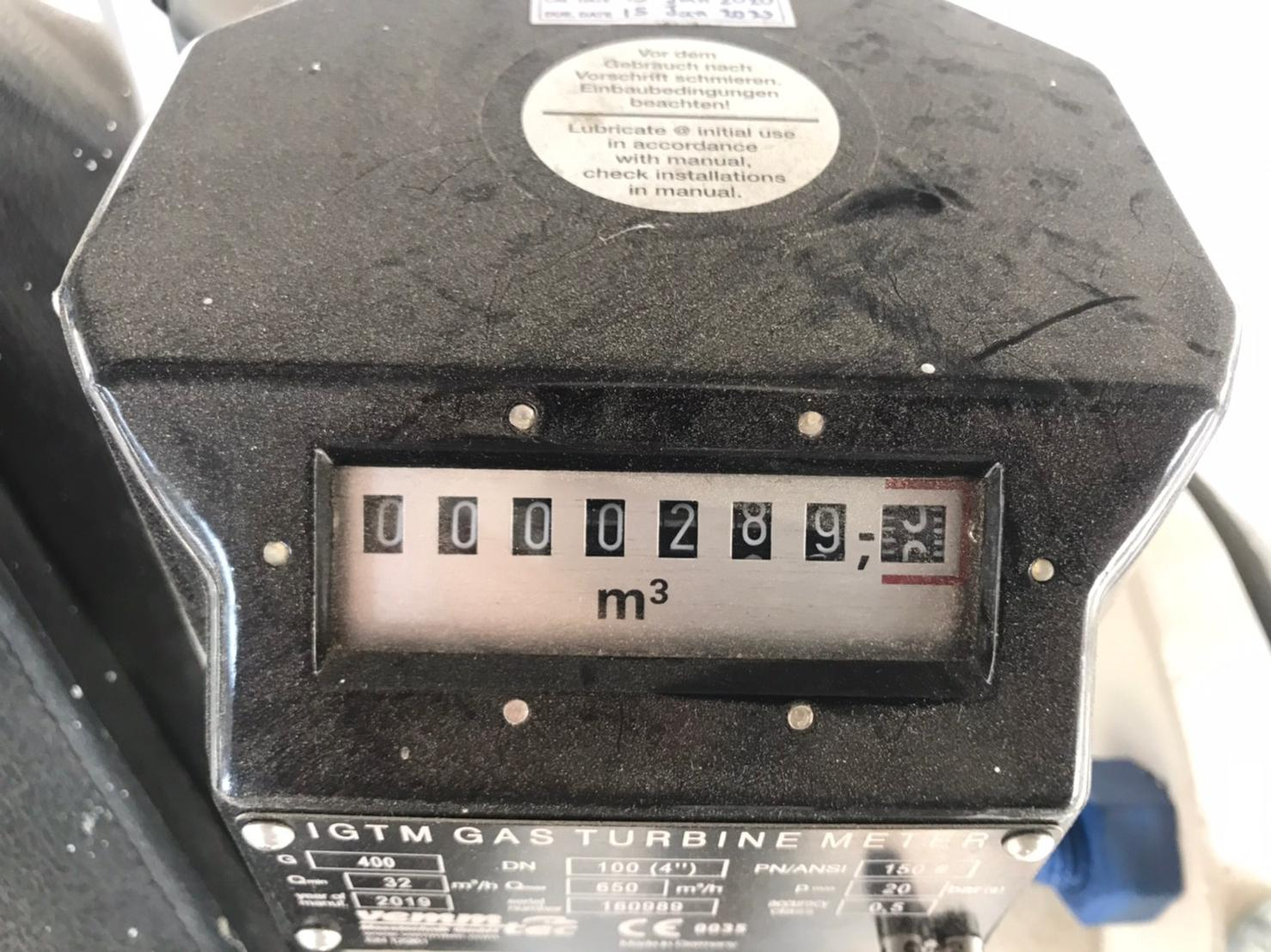analog_dial: (330, 466, 986, 660)
